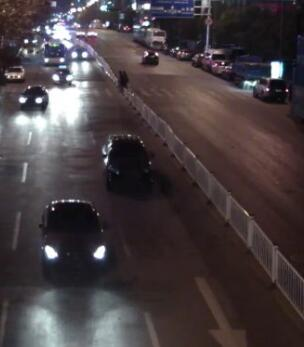bus: (40, 39, 67, 65), (140, 25, 167, 46), (130, 21, 144, 41)
car: (36, 199, 109, 283), (101, 135, 154, 193), (233, 54, 270, 88), (251, 76, 288, 102), (18, 84, 49, 112), (199, 48, 231, 70), (209, 57, 231, 75), (3, 64, 26, 81), (52, 64, 72, 83), (68, 44, 89, 62), (141, 47, 159, 64), (23, 33, 38, 46), (191, 52, 206, 65), (175, 47, 190, 60), (167, 46, 177, 57), (75, 28, 86, 37), (88, 29, 98, 38)
